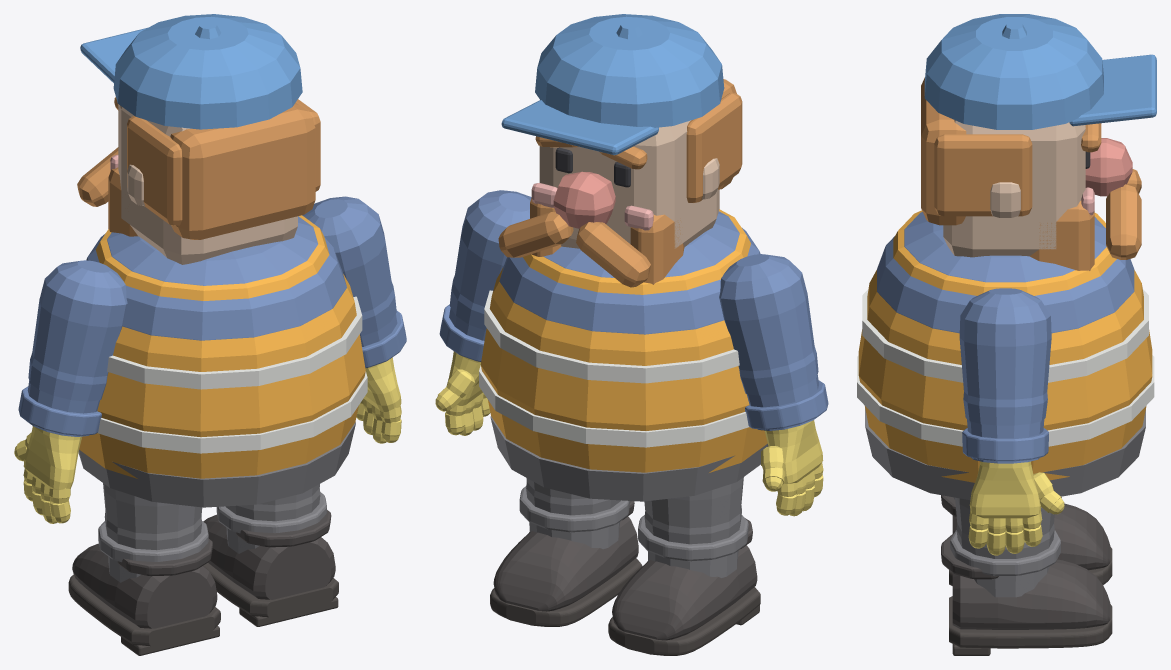
File: npc_helper.glb
3 views of the same model, side by side, from view 1: azimuth 30°, elevation 25°; view 2: azimuth 150°, elevation 25°; view 3: azimuth 270°, elevation 25° (orthographic).
Parts seen in each view (by area): view 1: Vest, CapCrown, Belly, HairBack, UpperArm_L, Waist, Boot_L, Boot_R, UpperArm_R, Face, VestBand1, VestBand0 (+24 smaller); view 2: Vest, CapCrown, Belly, UpperArm_L, Face, Boot_L, Boot_R, Waist, UpperArm_R, VestBand1, VestBand0, HairSide_-1 (+24 smaller); view 3: Vest, CapCrown, Belly, Face, UpperArm_R, Boot_R, HairSide_1, Waist, VestBand1, CapPeak, VestBand0, Glove_R (+16 smaller).
Part boxes in pixels (x1=…): Vest: x1=79, y1=215, x2=365, y2=478; CapCrown: x1=113, y1=14, x2=302, y2=129; Belly: x1=86, y1=216, x2=346, y2=340; HairBack: x1=170, y1=104, x2=315, y2=239; UpperArm_L: x1=32, y1=260, x2=127, y2=377; Waist: x1=78, y1=422, x2=355, y2=507; Boot_L: x1=72, y1=543, x2=217, y2=628; Boot_R: x1=203, y1=514, x2=335, y2=599; UpperArm_R: x1=302, y1=196, x2=392, y2=312; Face: x1=118, y1=104, x2=297, y2=264; VestBand1: x1=107, y1=296, x2=362, y2=389; VestBand0: x1=97, y1=371, x2=367, y2=453; Vest: x1=480, y1=209, x2=767, y2=472; CapCrown: x1=535, y1=14, x2=724, y2=127; Belly: x1=499, y1=211, x2=760, y2=334; UpperArm_L: x1=719, y1=254, x2=814, y2=371; Face: x1=539, y1=120, x2=719, y2=248; Boot_L: x1=612, y1=545, x2=757, y2=640; Boot_R: x1=493, y1=516, x2=638, y2=611; Waist: x1=490, y1=416, x2=768, y2=501; UpperArm_R: x1=453, y1=190, x2=531, y2=306; VestBand1: x1=484, y1=290, x2=739, y2=383; VestBand0: x1=479, y1=365, x2=748, y2=447; HairSide_-1: x1=686, y1=93, x2=742, y2=202; Vest: x1=858, y1=210, x2=1152, y2=482; CapCrown: x1=924, y1=14, x2=1103, y2=129; Belly: x1=877, y1=212, x2=1134, y2=333; Face: x1=943, y1=120, x2=1085, y2=257; UpperArm_R: x1=959, y1=288, x2=1051, y2=399; Boot_R: x1=952, y1=559, x2=1110, y2=629; HairSide_1: x1=934, y1=134, x2=1032, y2=216; Waist: x1=865, y1=408, x2=1145, y2=499; VestBand1: x1=862, y1=289, x2=1148, y2=382; CapPeak: x1=1069, y1=54, x2=1156, y2=126; VestBand0: x1=857, y1=355, x2=1154, y2=446; Glove_R: x1=969, y1=461, x2=1041, y2=518.
Bounding box in the file's own units: 0.8242 × 1.23 × 0.5718.
